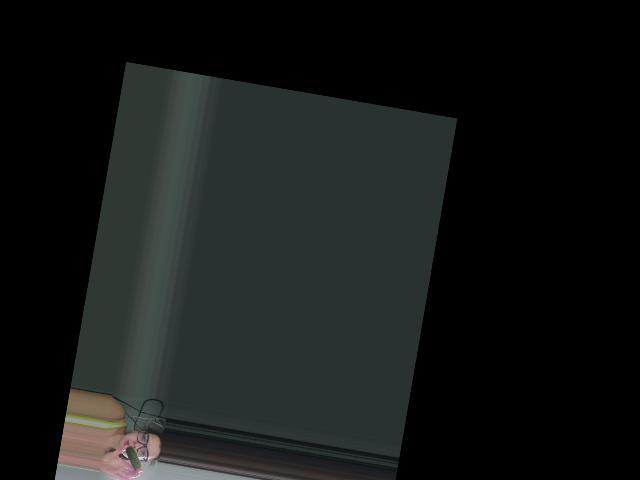cucumber: (122, 445, 145, 470)
